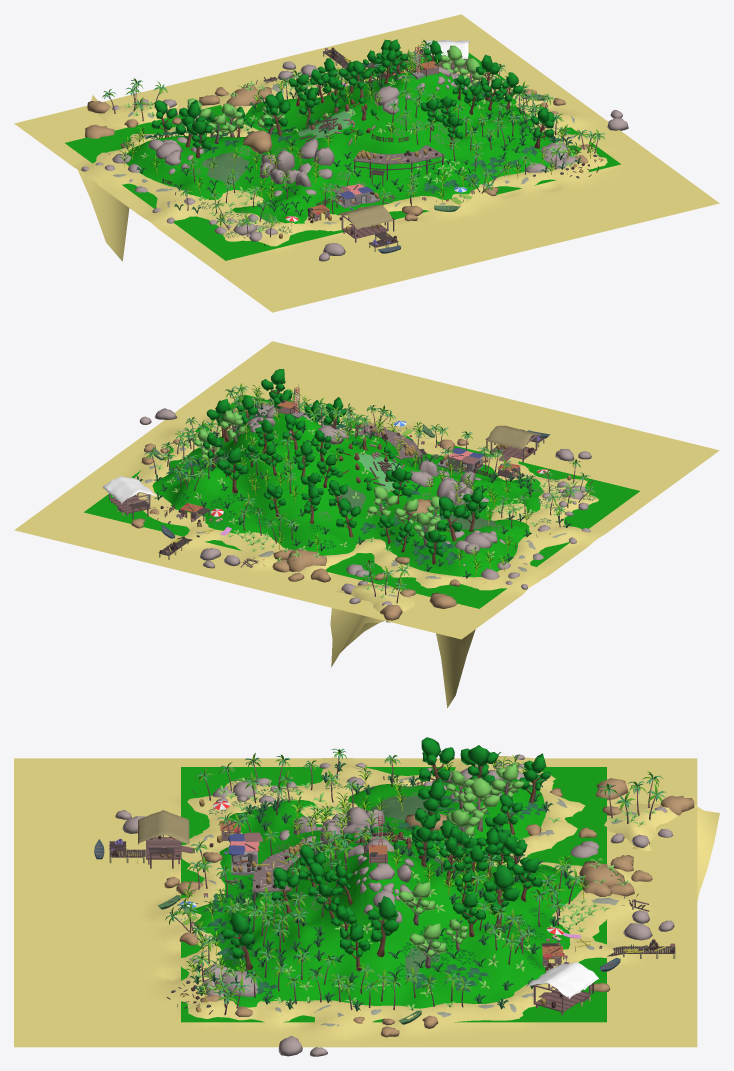
The model's file is toonisland.glb.
The picture shows the model from 3 angles, top to bottom: view 1: azimuth 30°, elevation 25°; view 2: azimuth 150°, elevation 25°; view 3: azimuth 270°, elevation 25°; orthographic projection. The views are drawn at different scales.
Visible parts, largest first — view 1: Plane.002, Plane.001, Plane.439, Plane.088, Plane.087, Plane.255, Plane.373, Sphere.026, Sphere.025, Cube.066, Sphere.024, Cube.062 (+1 smaller); view 2: Plane.002, Plane.001, Plane.439, Plane.255, Plane.478, Cube.062, Plane.087, Sphere.024, Plane.373; view 3: Plane.002, Plane.001, Plane.439, Plane.478, Plane.255, Sphere.006, Sphere.025, Plane.087, Sphere.009, Sphere.013, Sphere.024, Sphere.018 (+18 smaller).
Boxes of the visible parts, x1=… form: Plane.002: x1=14, y1=14, x2=719, y2=312; Plane.001: x1=65, y1=53, x2=620, y2=260; Plane.439: x1=77, y1=95, x2=178, y2=261; Plane.088: x1=202, y1=152, x2=248, y2=185; Plane.087: x1=353, y1=145, x2=444, y2=164; Plane.255: x1=338, y1=205, x2=393, y2=229; Plane.373: x1=298, y1=108, x2=354, y2=138; Sphere.026: x1=264, y1=94, x2=290, y2=127; Sphere.025: x1=186, y1=120, x2=213, y2=150; Cube.066: x1=243, y1=130, x2=272, y2=153; Sphere.024: x1=175, y1=100, x2=205, y2=135; Cube.062: x1=226, y1=87, x2=261, y2=106; Plane.002: x1=14, y1=341, x2=719, y2=639; Plane.001: x1=84, y1=394, x2=639, y2=608; Plane.439: x1=330, y1=584, x2=475, y2=708; Plane.255: x1=486, y1=425, x2=541, y2=449; Plane.478: x1=103, y1=476, x2=156, y2=504; Cube.062: x1=287, y1=548, x2=326, y2=571; Plane.087: x1=358, y1=425, x2=423, y2=458; Sphere.024: x1=436, y1=496, x2=465, y2=532; Plane.373: x1=354, y1=453, x2=402, y2=490; Plane.002: x1=14, y1=756, x2=697, y2=1047; Plane.001: x1=181, y1=767, x2=606, y2=1022; Plane.439: x1=604, y1=803, x2=719, y2=901; Plane.478: x1=526, y1=962, x2=599, y2=998; Plane.255: x1=137, y1=810, x2=189, y2=844; Sphere.006: x1=483, y1=864, x2=520, y2=914; Sphere.025: x1=419, y1=737, x2=454, y2=781; Plane.087: x1=252, y1=845, x2=314, y2=892; Sphere.009: x1=367, y1=896, x2=399, y2=942; Sphere.013: x1=221, y1=912, x2=254, y2=959; Sphere.024: x1=460, y1=745, x2=498, y2=785; Sphere.018: x1=462, y1=778, x2=499, y2=820.
Size of what is drawn, in the model's own units: 38.37 by 17.11 by 38.15.
